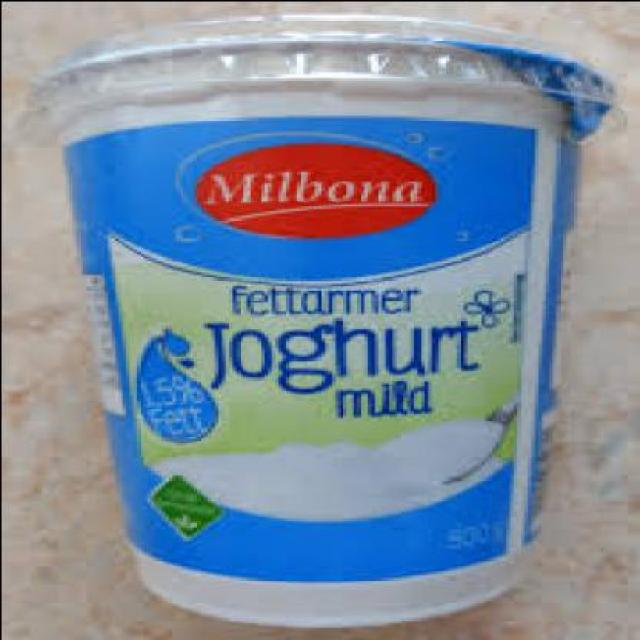PLASTIC: (50, 59, 576, 619), (18, 11, 625, 162)
